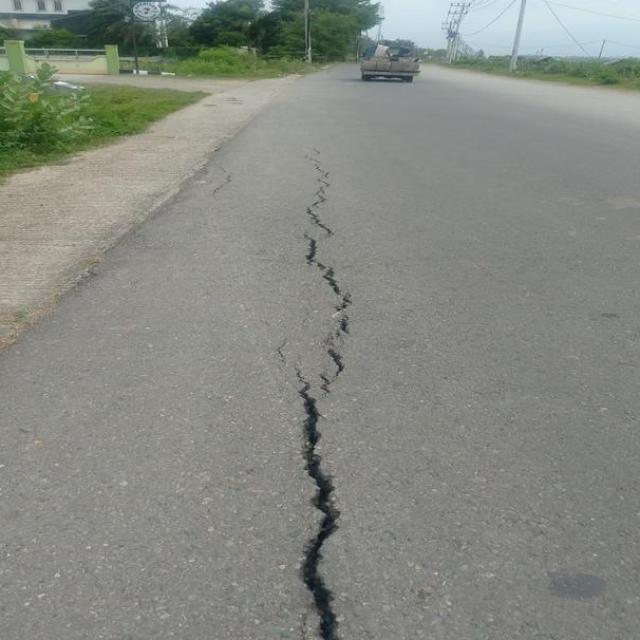Memanjang: (283, 138, 362, 640)
